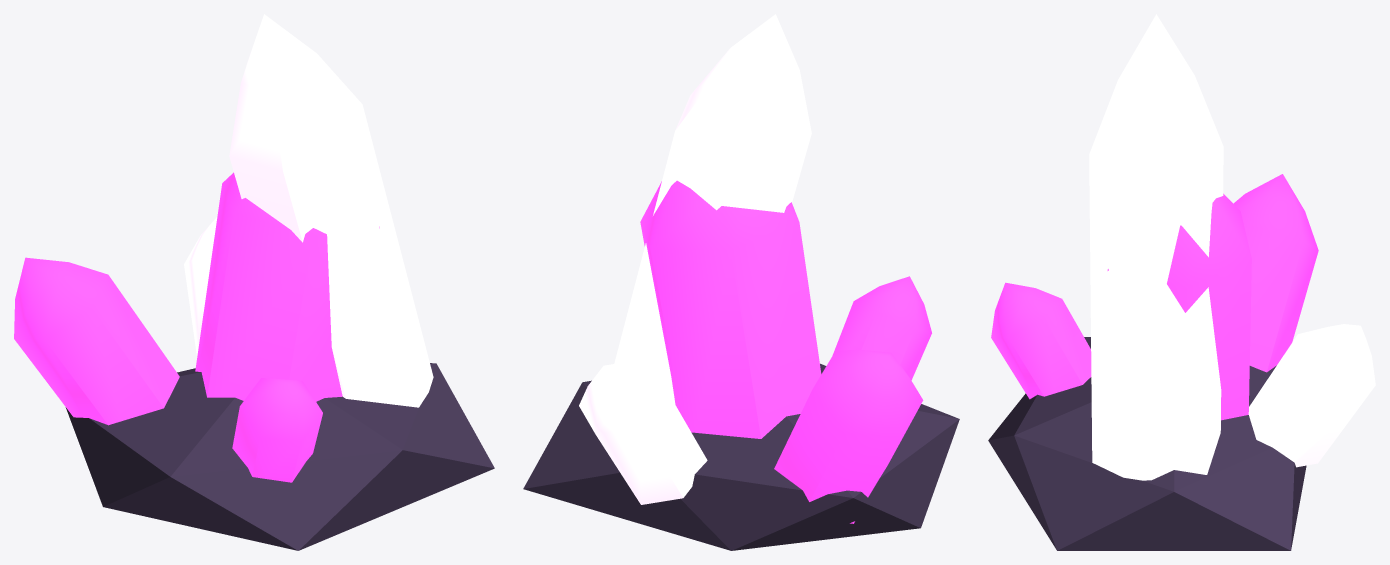
File: W4_Crystal_B.fbx
3 renders of one model, left to right at view 1: azimuth 30°, elevation 25°; view 2: azimuth 150°, elevation 25°; view 3: azimuth 270°, elevation 25°, orthographic. The views are drawn at different scales.
Parts seen in each view (by area): view 1: W4_Crystal_B; view 2: W4_Crystal_B; view 3: W4_Crystal_B.
Part boxes in pixels (x1,y1,x2,y2): W4_Crystal_B: (14,14,494,550); W4_Crystal_B: (523,14,959,550); W4_Crystal_B: (988,14,1375,550).
Size of the model in its own units: 2.34 by 2.81 by 2.18.
